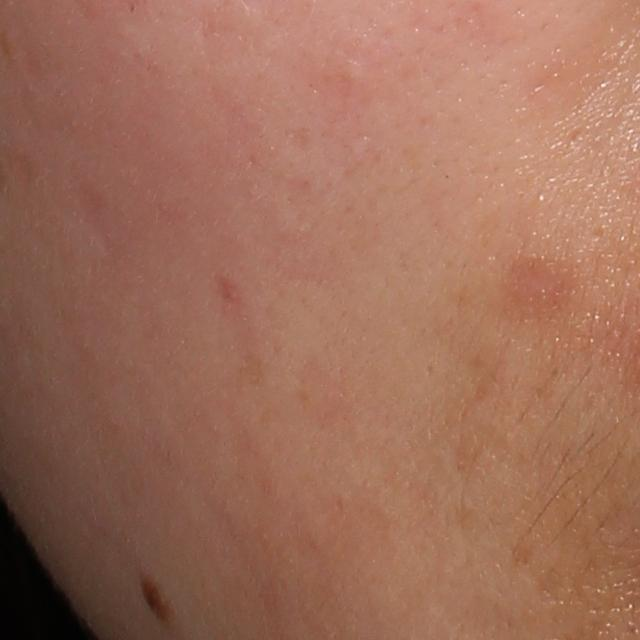nevus: (133, 563, 182, 634)
